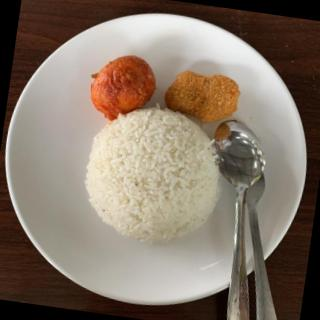Nasi: (80, 100, 231, 249)
